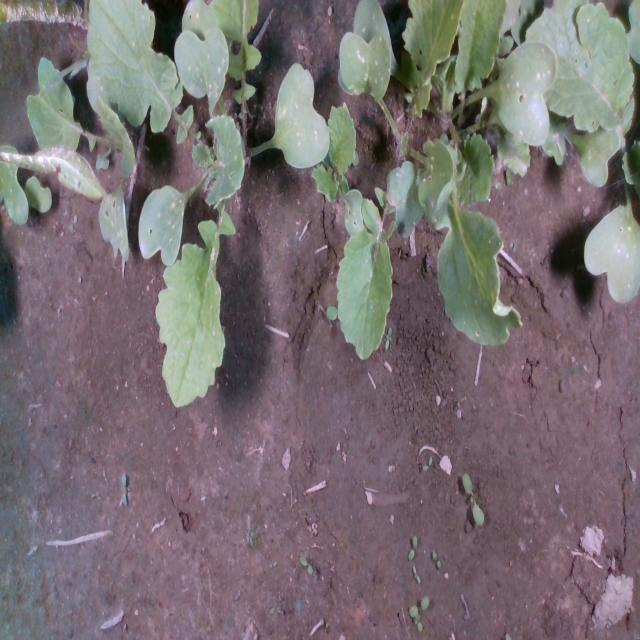weed: (462, 472, 484, 526), (119, 471, 127, 507), (298, 556, 312, 576), (407, 533, 417, 560), (244, 518, 253, 546), (431, 549, 441, 569), (411, 562, 420, 584), (422, 454, 432, 471)
